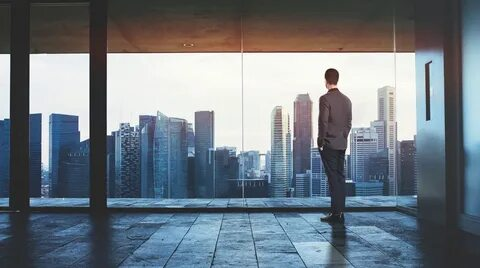awake: (316, 67, 353, 224)
